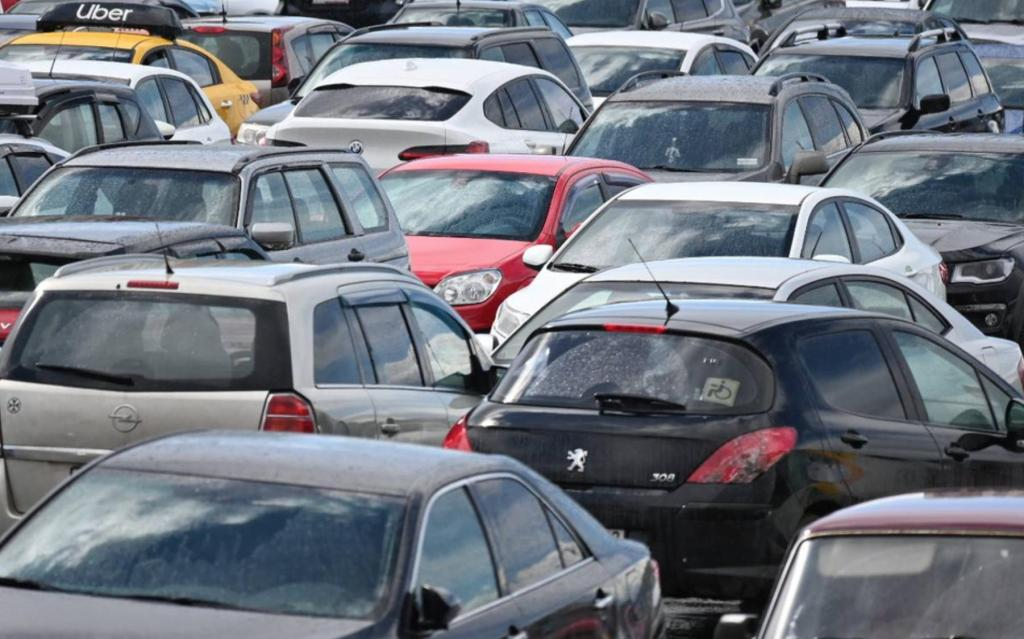Car: (446, 300, 1024, 638), (0, 255, 500, 533), (0, 431, 665, 639), (492, 183, 945, 344), (489, 257, 1023, 391), (10, 140, 409, 270), (377, 154, 649, 332), (717, 490, 1024, 639), (820, 130, 1024, 346), (238, 24, 593, 144), (264, 59, 587, 172), (0, 2, 261, 139), (0, 219, 270, 343), (567, 72, 868, 183), (754, 23, 1004, 134), (23, 60, 233, 144), (183, 16, 352, 108), (567, 31, 760, 106), (0, 79, 163, 153), (0, 61, 71, 215), (762, 1, 959, 55), (546, 0, 751, 44), (385, 0, 572, 39), (731, 0, 843, 53), (971, 40, 1024, 134), (923, 0, 1024, 46), (280, 0, 408, 28), (105, 0, 201, 20), (0, 13, 42, 45), (4, 0, 79, 15), (219, 0, 280, 16), (843, 0, 927, 10), (181, 0, 227, 17)
